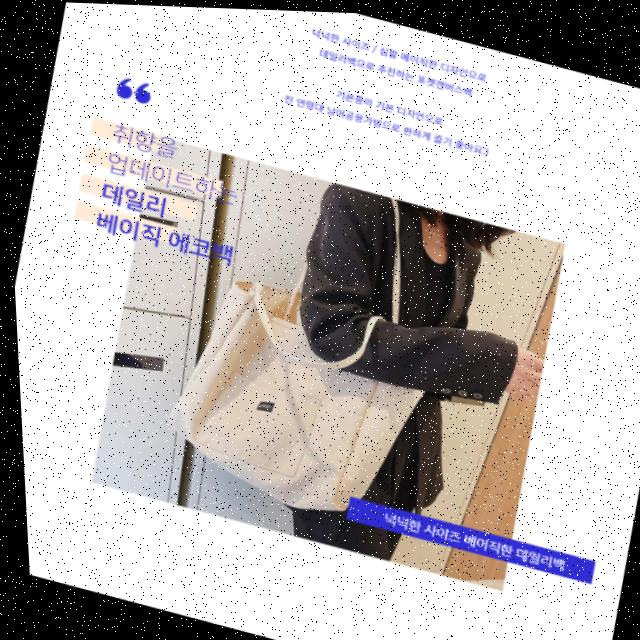ecobag: (143, 184, 466, 548)
